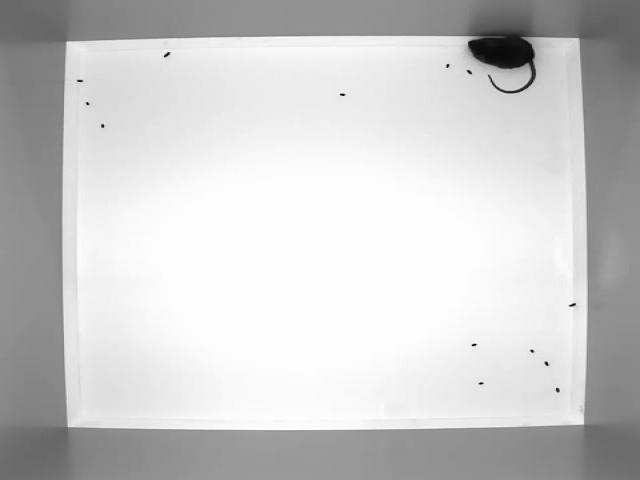Tikus: (464, 34, 540, 95)
